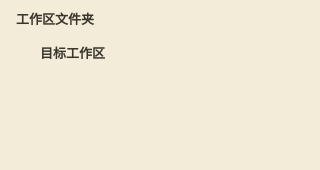
it: 工作区错误提示合并与恢复 › 目标未展开时切换失败仍可见，重试成功后清除提示
The image size is (320, 170).
What coordinates should you click on to do the following:
click the button "目标工作区"
I would click on:
 (86, 52)
Its box is [34, 42, 137, 62].
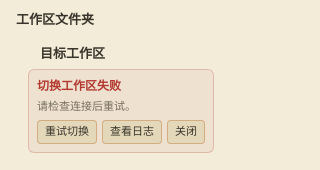
Check: the number of messages is 1, box [28, 69, 214, 153]
What coordinates should you click on to do the following:
click the button "重试切换"
I would click on:
 (67, 132)
Its box is [37, 120, 97, 144].
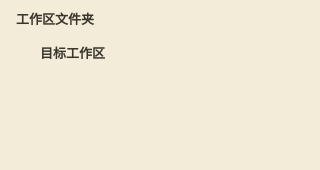
Check: no messages are shown
